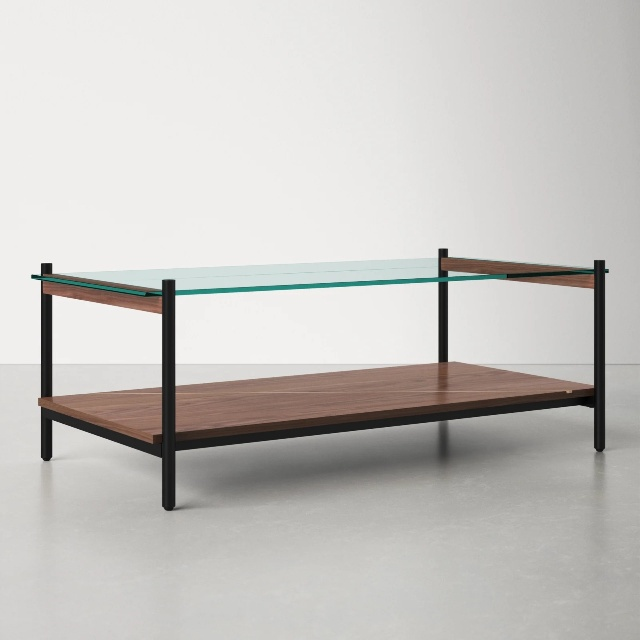obstacle: (32, 249, 606, 510)
